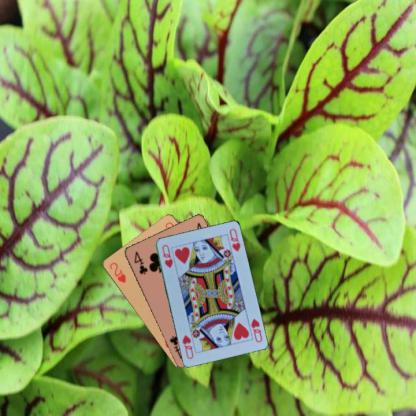2h: (107, 260, 127, 284)
4c: (131, 248, 149, 276)
Qh: (159, 242, 174, 269), (248, 316, 263, 343)
